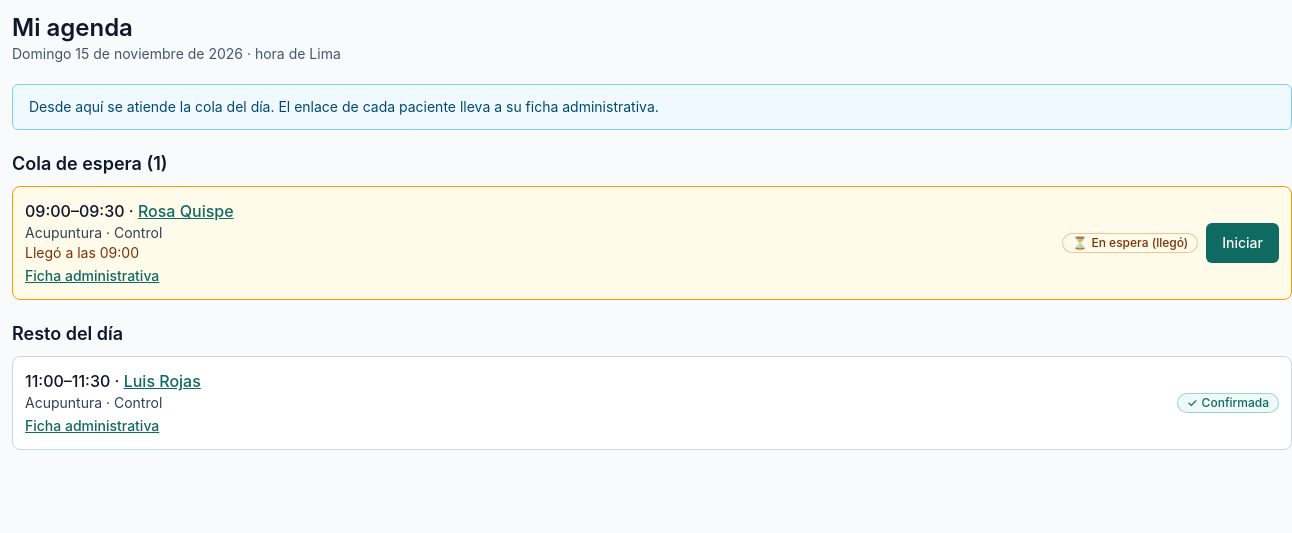
MyAgendaView › destaca la cola de espera, permite Iniciar y enlaza a la ficha administrativa
Expected: the element "Cola de espera (1)" is shown, [12, 150, 1291, 300]
Click the button with aria-label "Iniciar atención: Rosa Quispe" at (1243, 243), box [1206, 223, 1279, 263]
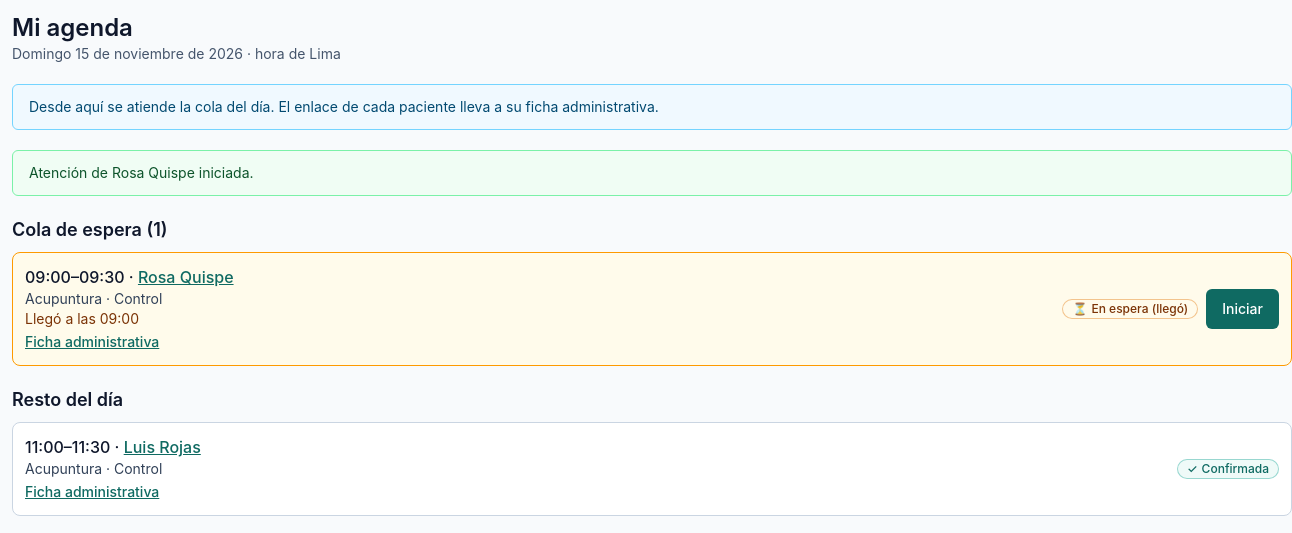
Expected: the text "lleva a su ficha administrativa" is shown, [274, 98, 659, 115]
Expected: the text "Atención de Rosa Quispe iniciada." is shown, [29, 164, 254, 181]
